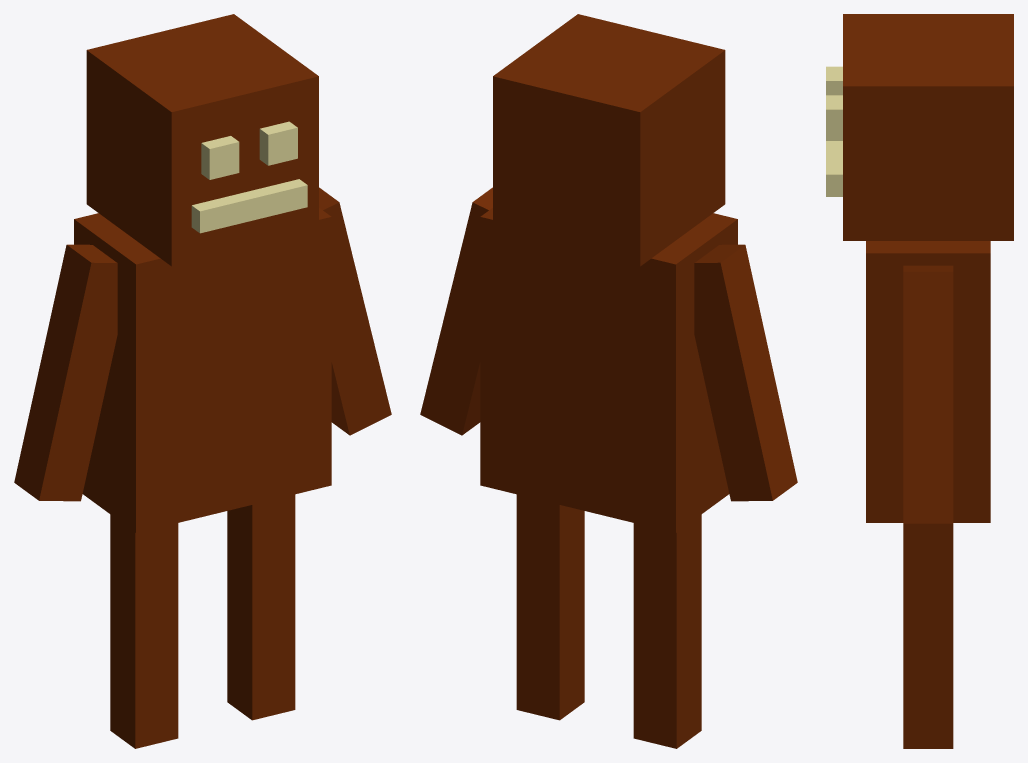
The model's file is robot.gltf.
3 views of the same model, side by side, from view 1: azimuth 30°, elevation 25°; view 2: azimuth 150°, elevation 25°; view 3: azimuth 270°, elevation 25° (orthographic).
Parts seen in each view (by area): view 1: Cube, Cube.001, left leg.003, left leg, left leg.001, left leg.002, Cube.004, Cube.002, Cube.003; view 2: Cube, Cube.001, left leg.003, left leg, left leg.001, left leg.002; view 3: Cube.001, Cube, left leg.002, left leg.001, Cube.004, Cube.003, Cube.002.
Part boxes in pixels (x1,y1,x2,y2): Cube: (74, 208, 331, 532); Cube.001: (86, 14, 318, 266); left leg.003: (14, 244, 117, 501); left leg: (110, 514, 178, 748); left leg.001: (227, 494, 295, 720); left leg.002: (319, 187, 391, 435); Cube.004: (191, 179, 307, 233); Cube.002: (201, 136, 239, 179); Cube.003: (259, 121, 297, 165); Cube: (480, 208, 737, 532); Cube.001: (493, 14, 725, 266); left leg.003: (694, 244, 797, 501); left leg: (633, 514, 701, 748); left leg.001: (516, 494, 584, 720); left leg.002: (420, 187, 492, 435); Cube.001: (843, 14, 1013, 240); Cube: (866, 241, 990, 522); left leg.002: (903, 265, 953, 523); left leg.001: (903, 523, 953, 748); Cube.004: (826, 141, 842, 196); Cube.003: (826, 95, 842, 140); Cube.002: (826, 66, 842, 95).
Bounding box in the file's own units: 3.62 × 6.45 × 1.66.
